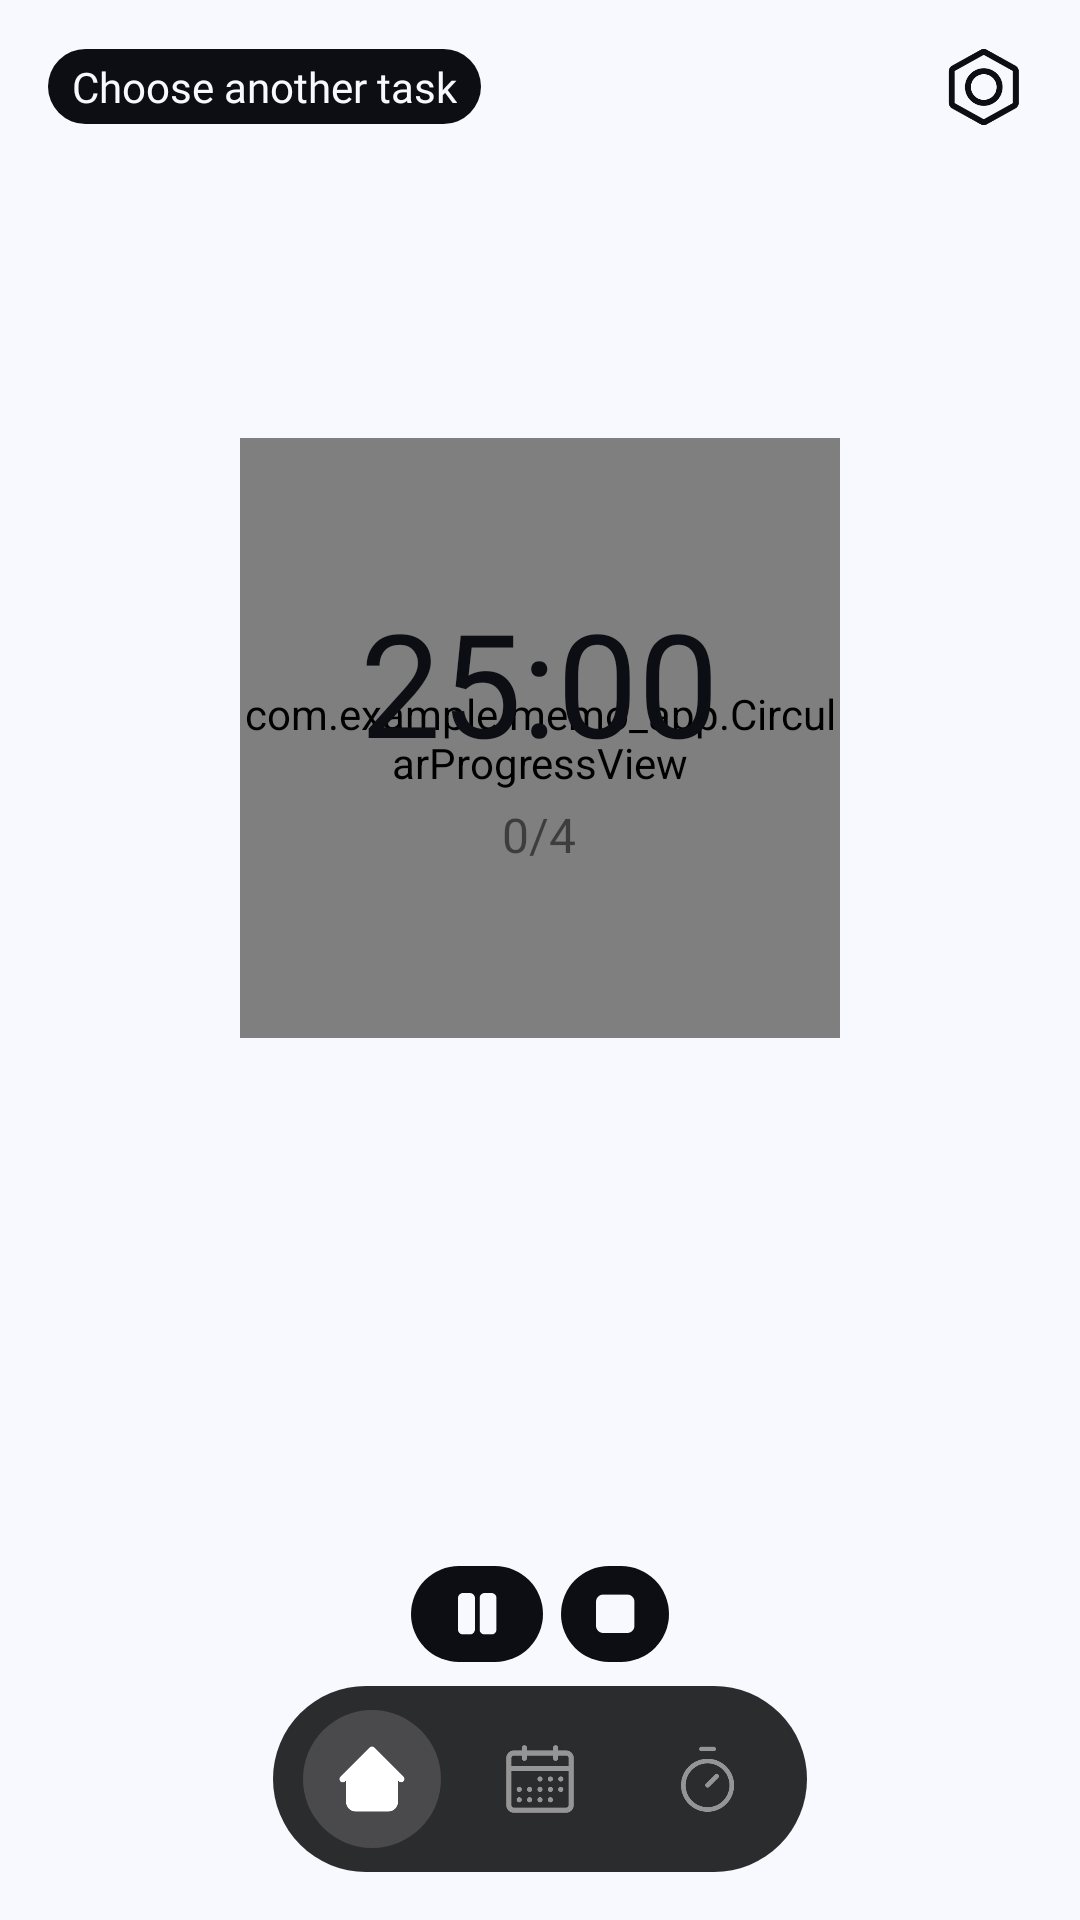

Screen size 1080x1920. Icon name, then its box in pixels as (x1,y1,x2,y2):
Pause/Play: (458,1593,497,1635)
Reset Timer: (596,1594,635,1633)
